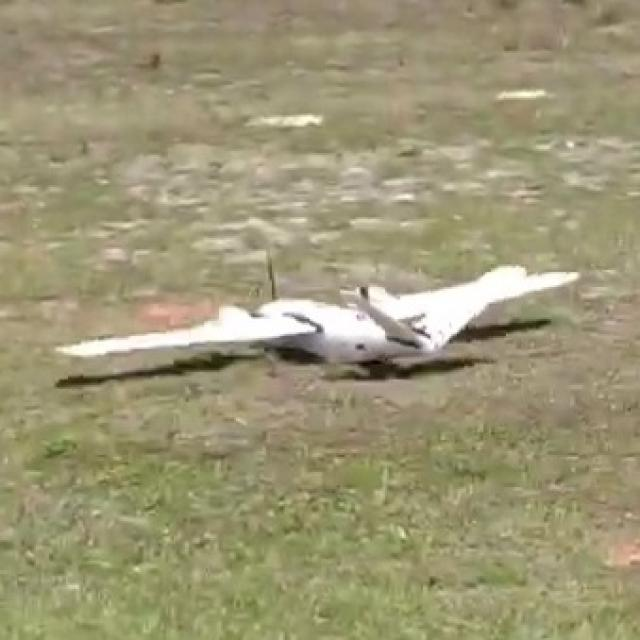iha: (56, 292, 585, 349)
